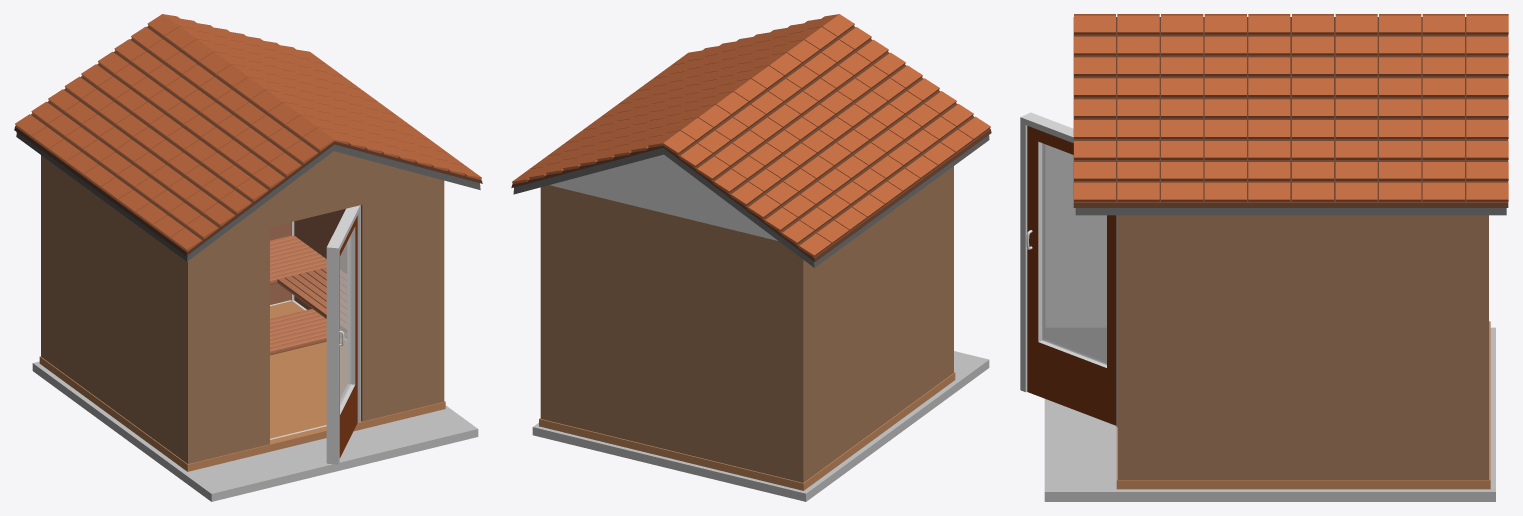
File: Sauna-3D.fbx
The picture shows the model from 3 angles, left to right: view 1: azimuth 30°, elevation 25°; view 2: azimuth 150°, elevation 25°; view 3: azimuth 270°, elevation 25°; orthographic projection. The views are drawn at different scales.
Parts seen in each view (by area): view 1: Cube, Cube_1, Cube_2, Cube_2_1_5, Polygon, Cube_2_3_5, Cube_2_1_6, Door_Glass, Cube_3_2_3, Cube_1_0, Cube_2_2_5, Cube_2_0_6 (+4 smaller); view 2: Cube, Polygon_1, Cube_2_1_5, Cube_1, Cube_2, Cube_2_1_6, Cube_2_0_6, Cube_2_0_5; view 3: Cube, Cube_2_0_5, Cube_1, Door_Glass, Cube_3_2_3, Cube_2, Cube_2_0_6, Cube_2_3_5, Cube_2_2_5, Cube_3_0_2, Cube_3_8_2, Cube_3_10_2 (+88 smaller).
Boxes of the visible parts, bbox=[...] form: Cube: bbox=[41, 155, 444, 463]; Cube_1: bbox=[32, 361, 478, 501]; Cube_2: bbox=[39, 301, 445, 471]; Cube_2_1_5: bbox=[14, 26, 334, 255]; Polygon: bbox=[238, 151, 429, 223]; Cube_2_3_5: bbox=[326, 205, 360, 464]; Cube_2_1_6: bbox=[16, 132, 333, 261]; Door_Glass: bbox=[340, 235, 351, 405]; Cube_3_2_3: bbox=[339, 215, 357, 457]; Cube_1_0: bbox=[294, 209, 346, 337]; Cube_2_2_5: bbox=[340, 226, 355, 414]; Cube_2_0_6: bbox=[333, 144, 480, 189]; Cube: bbox=[540, 166, 953, 482]; Polygon_1: bbox=[549, 154, 777, 240]; Cube_2_1_5: bbox=[663, 26, 991, 261]; Cube_1: bbox=[532, 351, 989, 501]; Cube_2: bbox=[539, 372, 955, 490]; Cube_2_1_6: bbox=[664, 135, 989, 267]; Cube_2_0_6: bbox=[513, 148, 663, 194]; Cube_2_0_5: bbox=[511, 146, 663, 187]; Cube: bbox=[1118, 215, 1488, 479]; Cube_2_0_5: bbox=[1073, 17, 1508, 207]; Cube_1: bbox=[1044, 327, 1495, 501]; Door_Glass: bbox=[1042, 143, 1106, 364]; Cube_3_2_3: bbox=[1027, 126, 1116, 425]; Cube_2: bbox=[1116, 321, 1490, 489]; Cube_2_0_6: bbox=[1075, 208, 1506, 215]; Cube_2_3_5: bbox=[1020, 112, 1117, 427]; Cube_2_2_5: bbox=[1038, 141, 1106, 367]; Cube_3_0_2: bbox=[1466, 15, 1508, 34]; Cube_3_8_2: bbox=[1117, 15, 1159, 34]; Cube_3_10_2: bbox=[1466, 36, 1508, 55].
Size of the model in its own units: 660 by 683 by 746.
